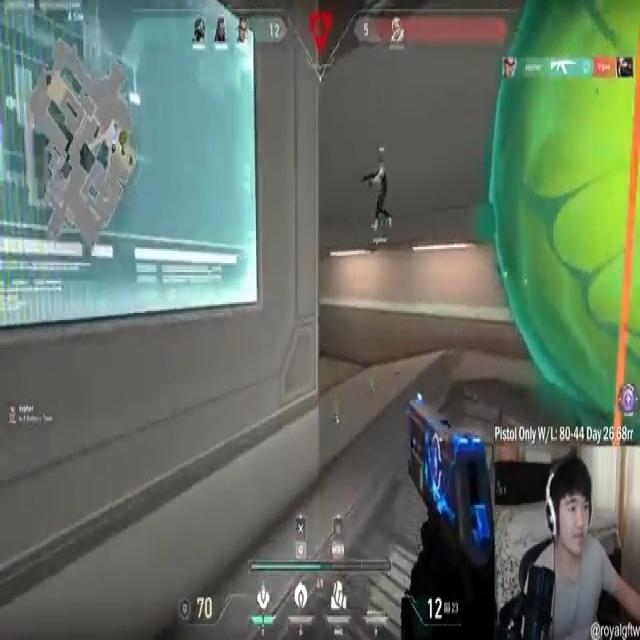ally: (358, 153, 394, 236)
